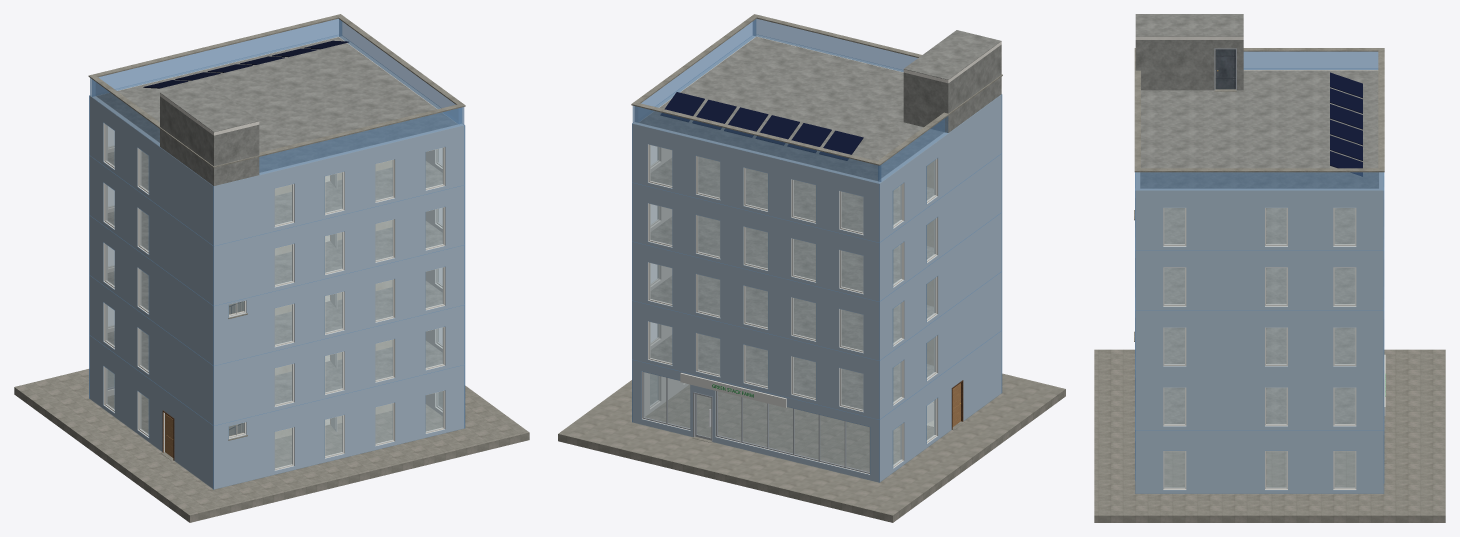
The model's file is b_vertical_farm.gltf.
3 renders of one model, left to right at view 1: azimuth 30°, elevation 25°; view 2: azimuth 150°, elevation 25°; view 3: azimuth 270°, elevation 25°, orthographic.
Visible parts, largest first — view 1: S_vertical_farm; view 2: S_vertical_farm, D_vertical_farm_F1_S2_Door0; view 3: S_vertical_farm, D_vertical_farm_PH_W0_Door0.
Part boxes in pixels (bbox=[...]): S_vertical_farm: bbox=[14, 14, 529, 522]; S_vertical_farm: bbox=[558, 14, 1065, 522]; D_vertical_farm_F1_S2_Door0: bbox=[695, 394, 711, 440]; S_vertical_farm: bbox=[1094, 14, 1445, 522]; D_vertical_farm_PH_W0_Door0: bbox=[1215, 49, 1235, 89].
Bounding box in the file's own units: 19 × 19.5 × 17.
19 materials, 9 textured.
